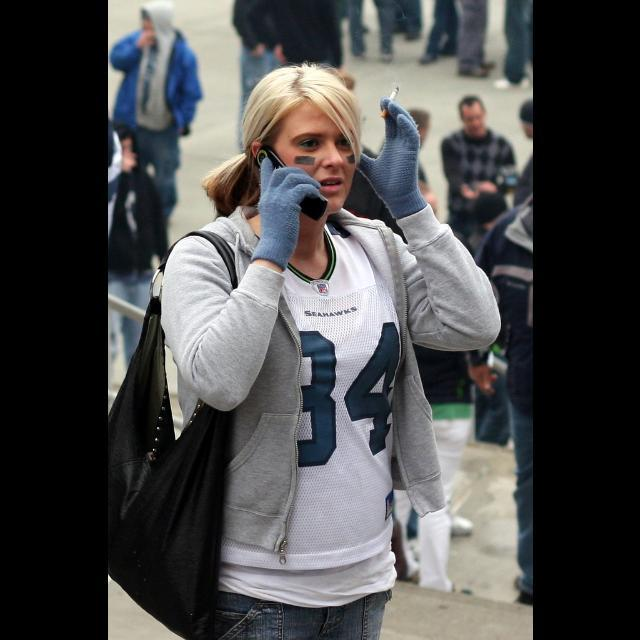rokok: (378, 84, 400, 122)
